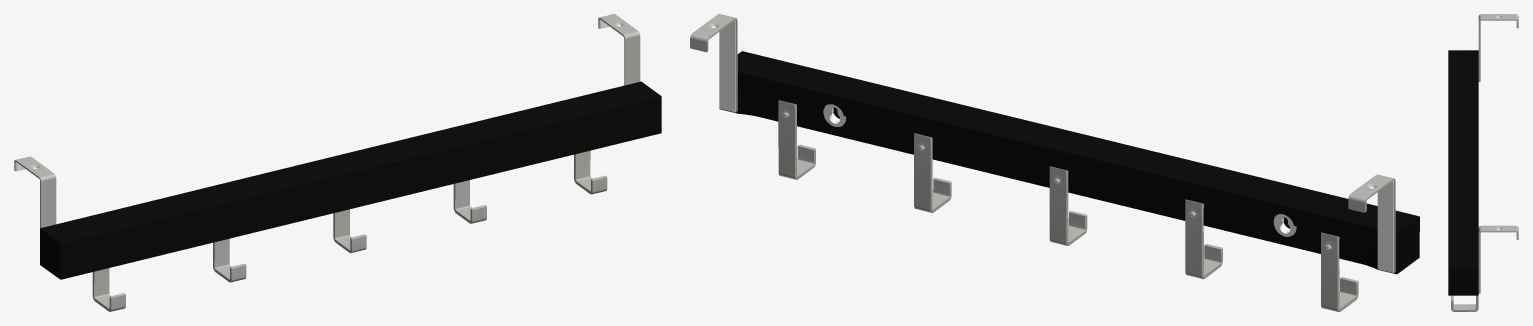
3 renders of one model, left to right at view 1: azimuth 30°, elevation 25°; view 2: azimuth 150°, elevation 25°; view 3: azimuth 270°, elevation 25°, orthographic. The views are drawn at different scales.
Visible parts, largest first — view 1: model; view 2: model; view 3: model.
Boxes of the visible parts, <box> form: model: <box>14,14,661,311</box>; model: <box>690,14,1419,311</box>; model: <box>1448,14,1518,311</box>.
Bounding box in the file's own units: 0.595 × 0.1265 × 0.081.
1 material, 1 textured.
